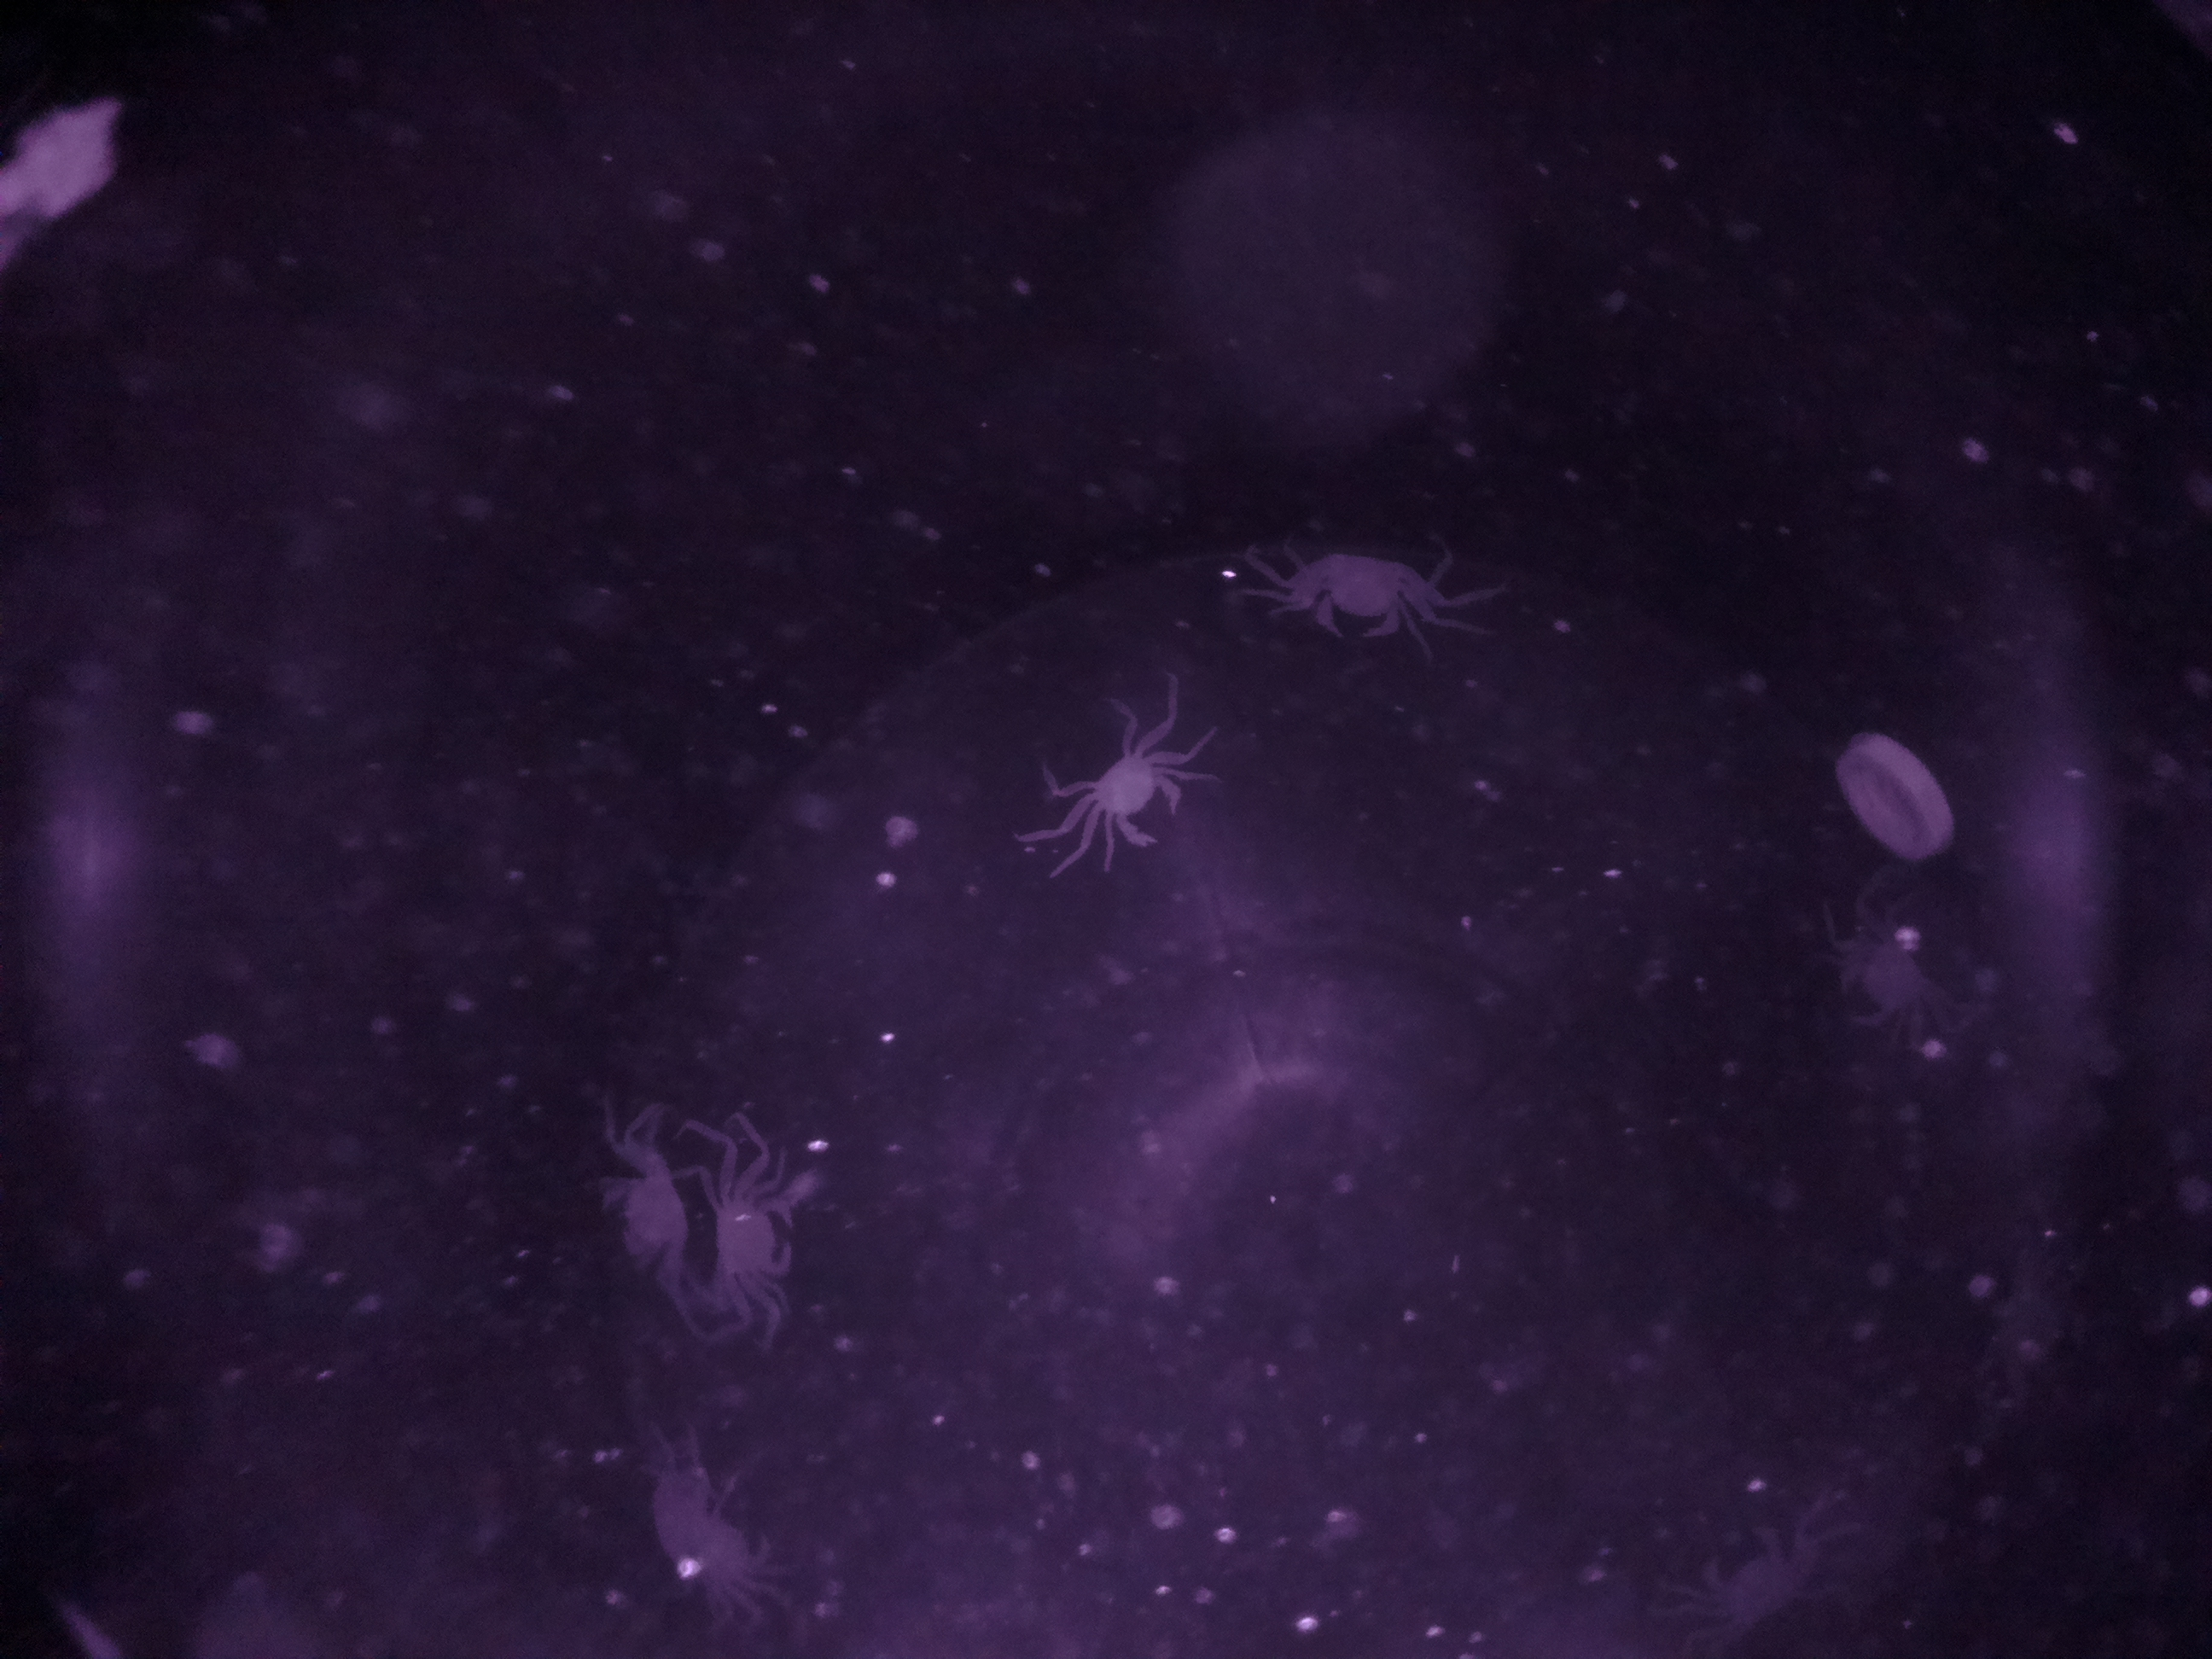Crab: (1068, 727, 1195, 871), (697, 1157, 810, 1317), (1284, 538, 1437, 655), (582, 1143, 698, 1279)
